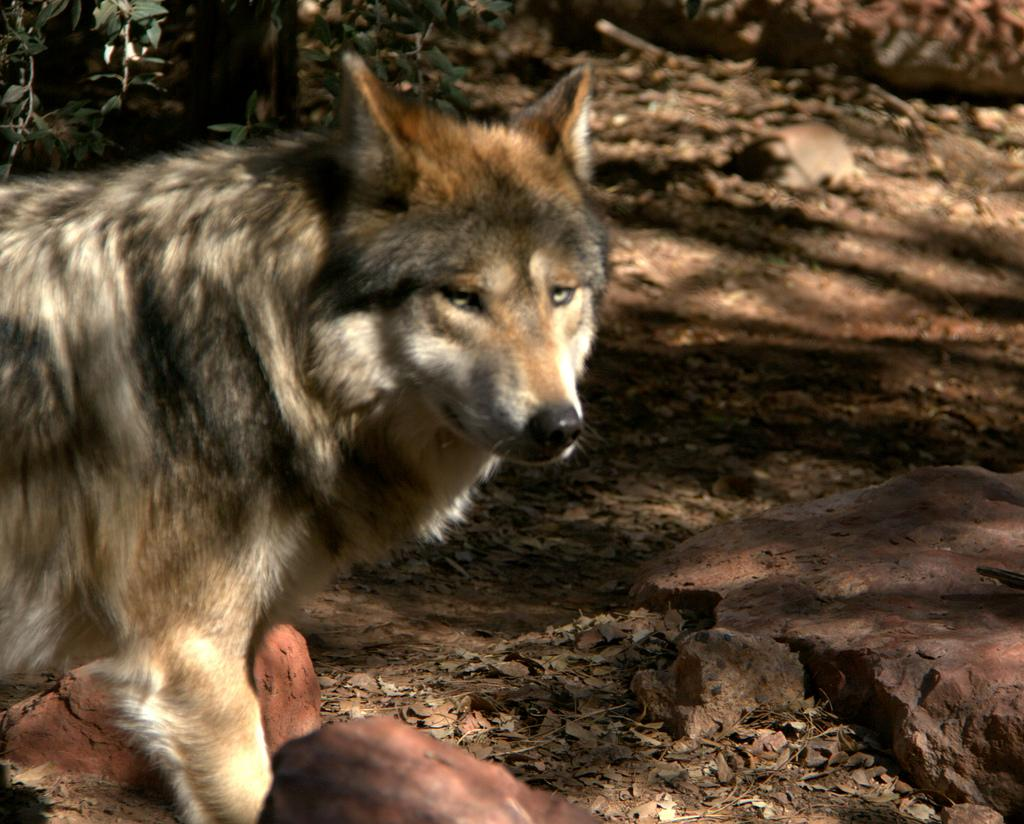Wolf: (3, 48, 607, 824)
